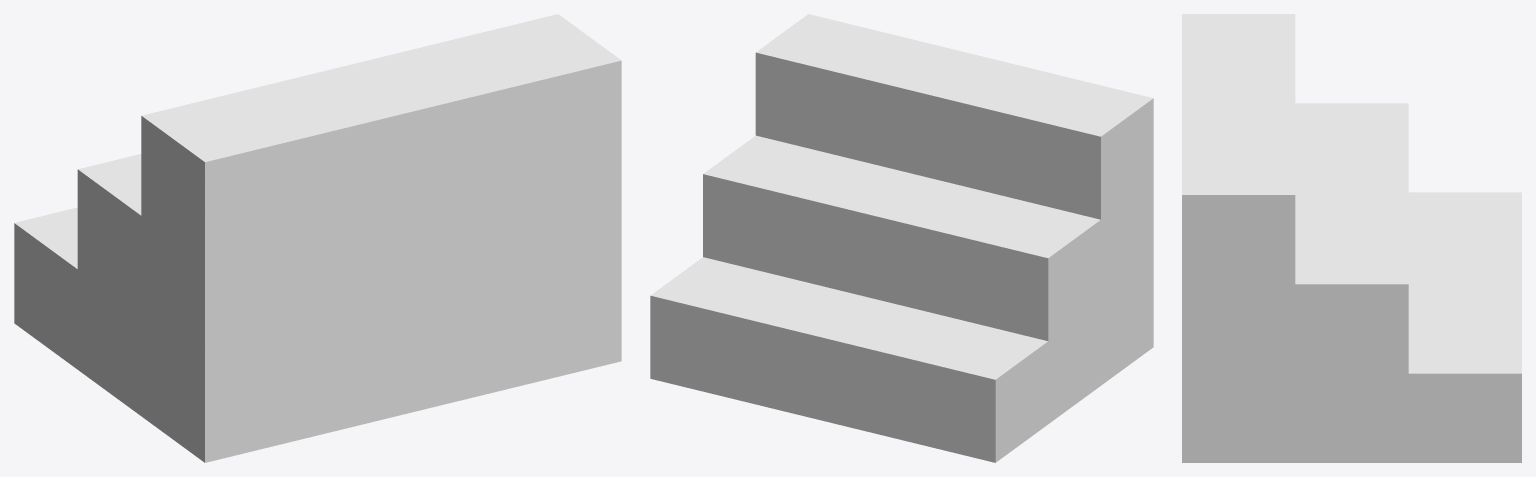
File: kitchen-cement.obj
The picture shows the model from 3 angles, left to right: view 1: azimuth 30°, elevation 25°; view 2: azimuth 150°, elevation 25°; view 3: azimuth 270°, elevation 25°; orthographic projection. The views are drawn at different scales.
Parts seen in each view (by area): view 1: steps_Cube.012; view 2: steps_Cube.012; view 3: steps_Cube.012.
Part boxes in pixels (box(x1,y1,x2,y2)): steps_Cube.012: box(14, 14, 621, 462); steps_Cube.012: box(650, 14, 1153, 462); steps_Cube.012: box(1182, 14, 1521, 462).
Size of the model in its own units: 2.28 by 1.57 by 1.81.
Materials: 1 (1 with a texture image).
